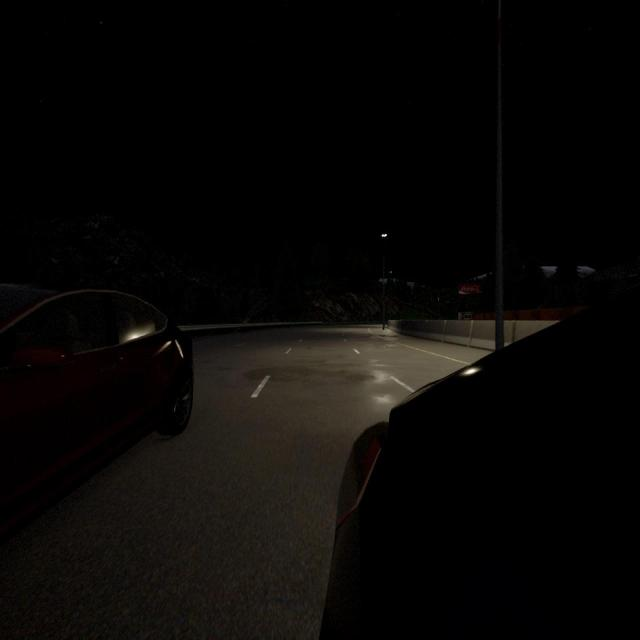Vehicle: (315, 286, 639, 640), (0, 284, 195, 544)
